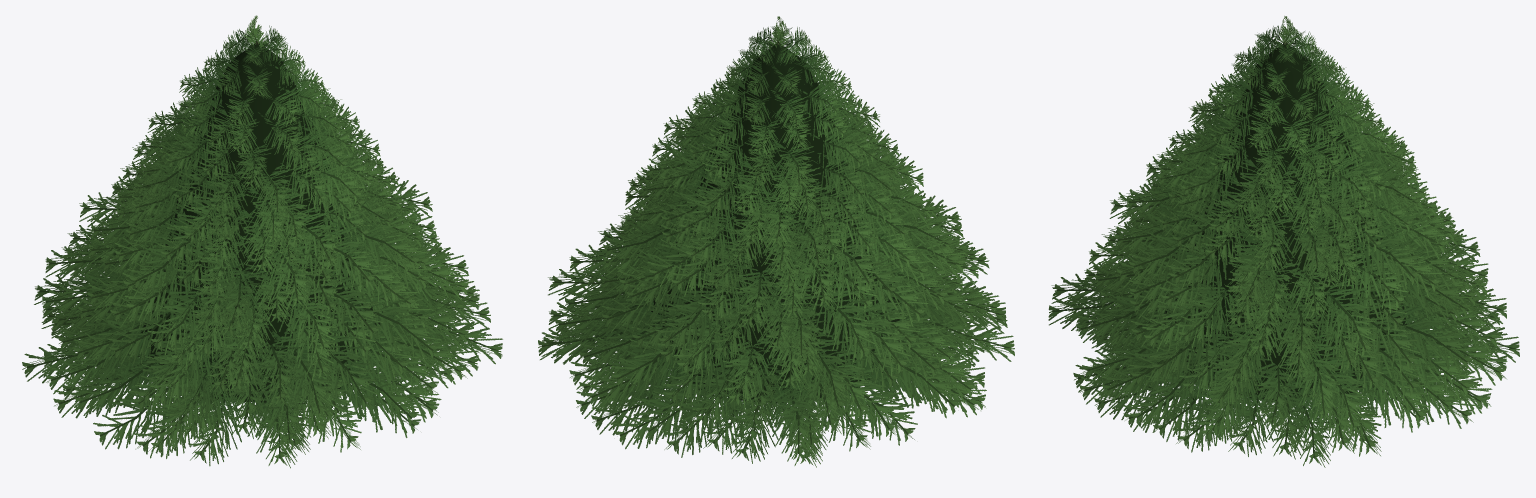
File: AraTree09.glb
The picture shows the model from 3 angles, left to right: view 1: azimuth 30°, elevation 25°; view 2: azimuth 150°, elevation 25°; view 3: azimuth 270°, elevation 25°; orthographic projection.
Parts seen in each view (by area): view 1: AraTree09_needles; view 2: AraTree09_needles; view 3: AraTree09_needles.
Boxes of the visible parts, x1=… form: AraTree09_needles: x1=22, y1=15, x2=502, y2=468; AraTree09_needles: x1=538, y1=16, x2=1014, y2=467; AraTree09_needles: x1=1048, y1=16, x2=1519, y2=467.
Bounding box in the file's own units: 6.07 × 5.23 × 5.93.
3 materials, 2 textured.
